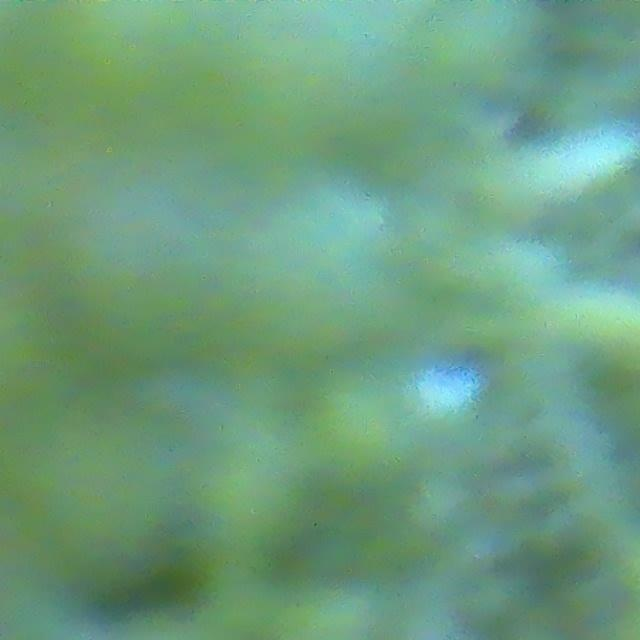SeaGrape: (39, 150, 253, 352), (241, 193, 403, 367)
